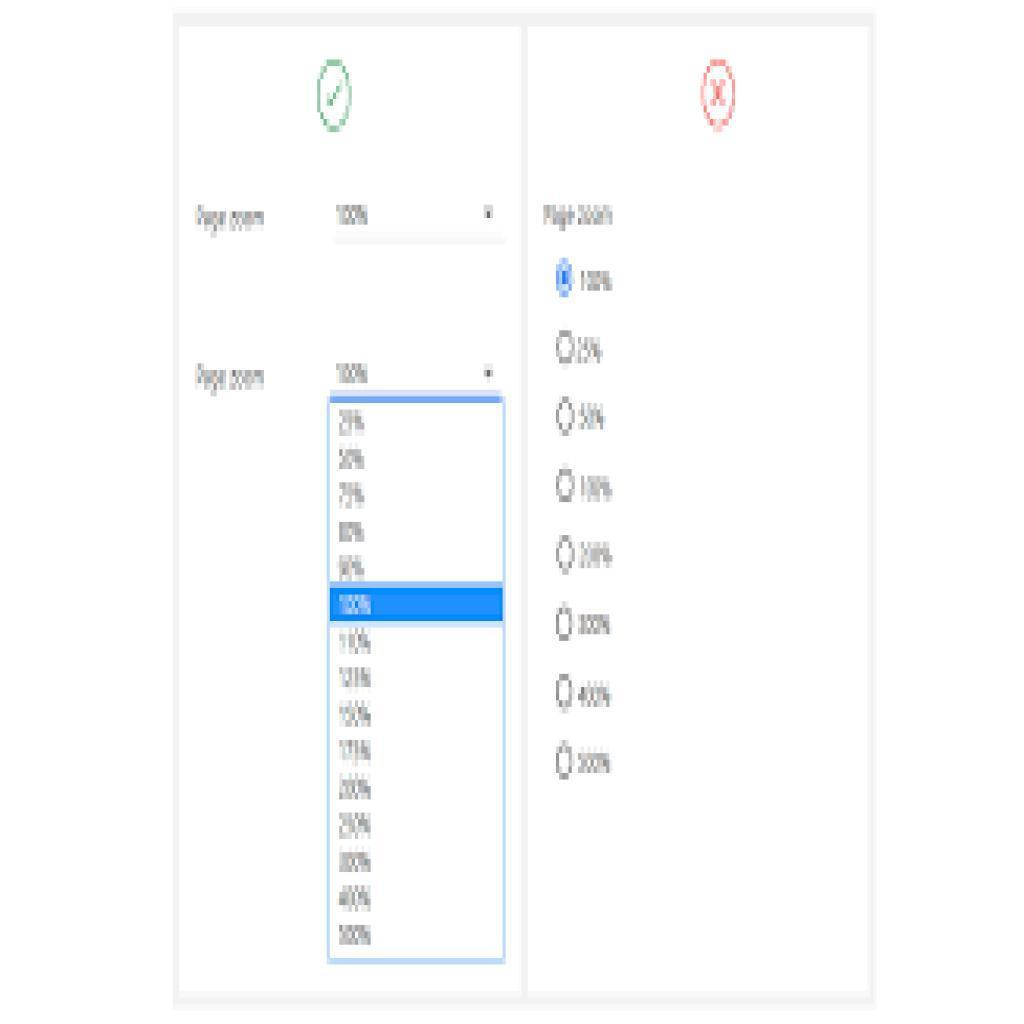radio: (553, 255, 579, 305), (553, 395, 579, 437), (553, 464, 579, 506), (554, 672, 576, 715), (556, 533, 578, 575), (556, 600, 576, 645), (556, 742, 578, 782), (555, 332, 577, 368)
